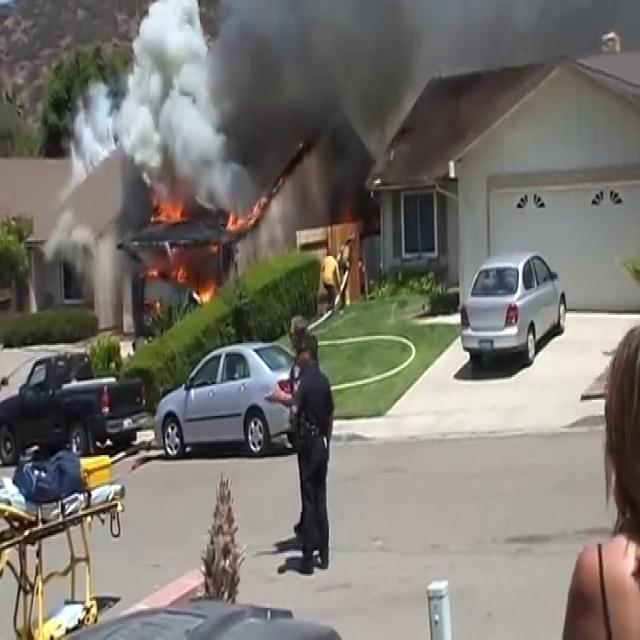Fire: (155, 193, 187, 239)
Smoke: (67, 0, 410, 228)
